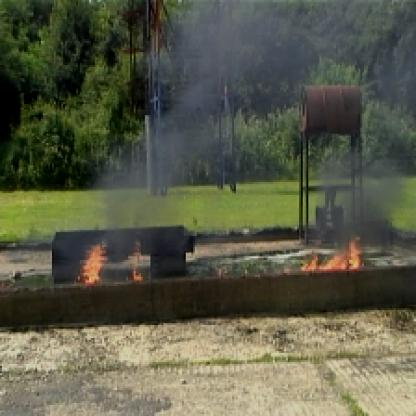Fire: (76, 234, 147, 288), (292, 232, 362, 277)
Smoke: (112, 2, 268, 223), (329, 2, 414, 225)
